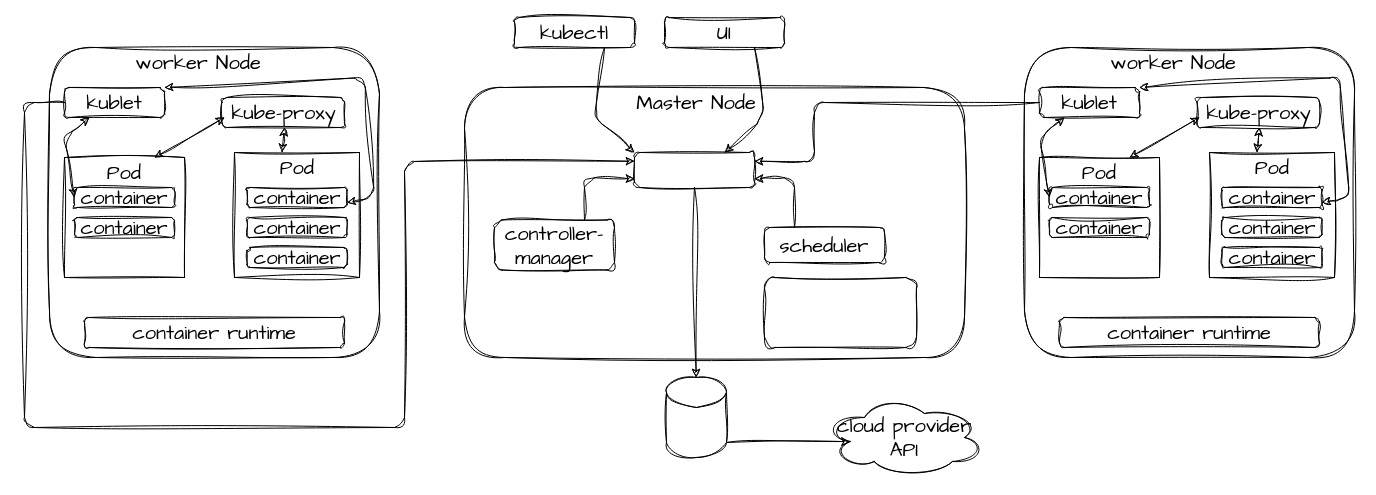
Some shapes in this 1376 by 495 pixel diagram are drawn without their labels. The centre of each missing label's shape, as x and y in pixels:
"API Server" goes at (694,170).
"cloud-controller-manager" goes at (840,312).
"etcd" goes at (696,417).
